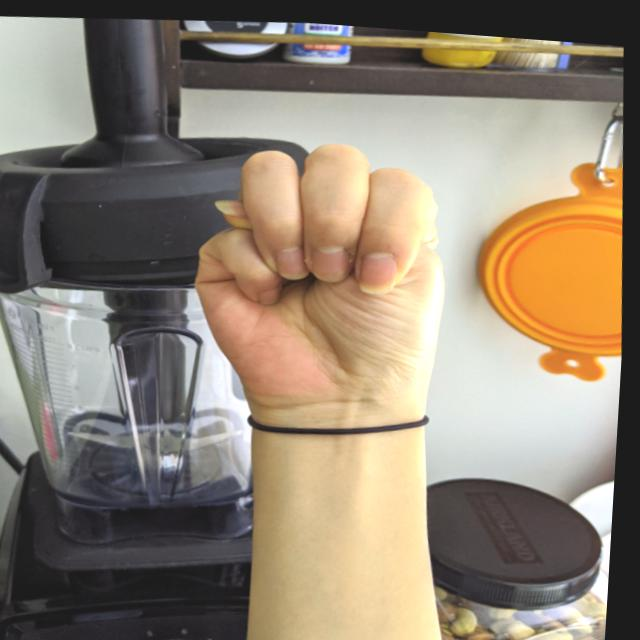M: (172, 116, 477, 426)
